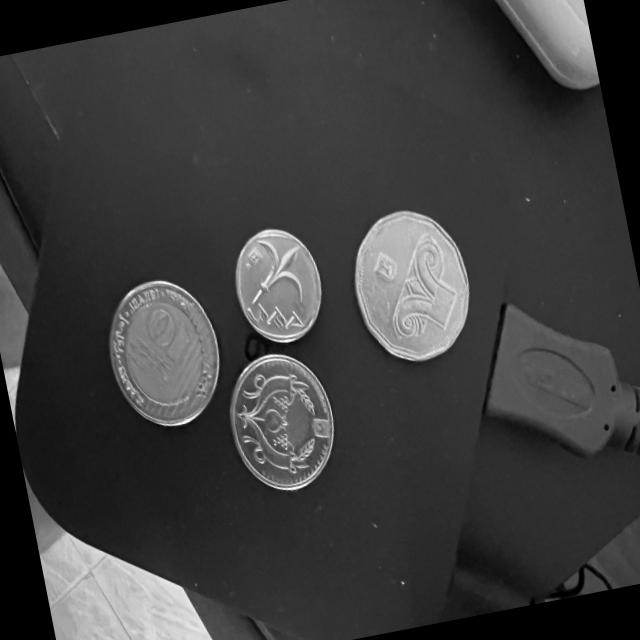1-shekel: (225, 222, 329, 350)
10-shekel: (99, 271, 231, 435)
2-shekel: (222, 350, 358, 503)
5-shekel: (340, 190, 483, 376)
